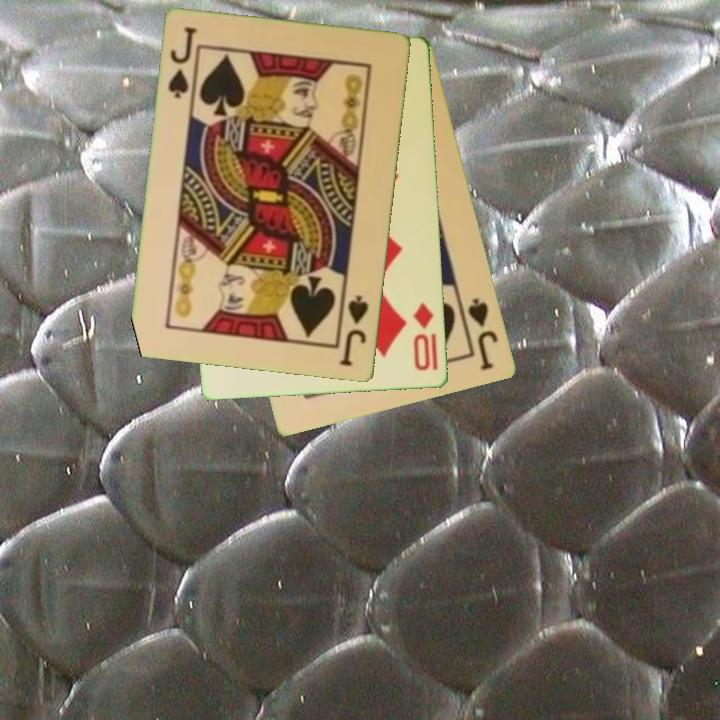10d: (410, 299, 437, 374)
Js: (465, 294, 502, 374), (165, 24, 201, 104), (336, 292, 372, 370)
